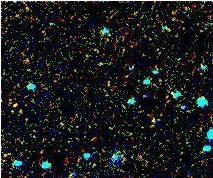star: (4, 89, 34, 119)
